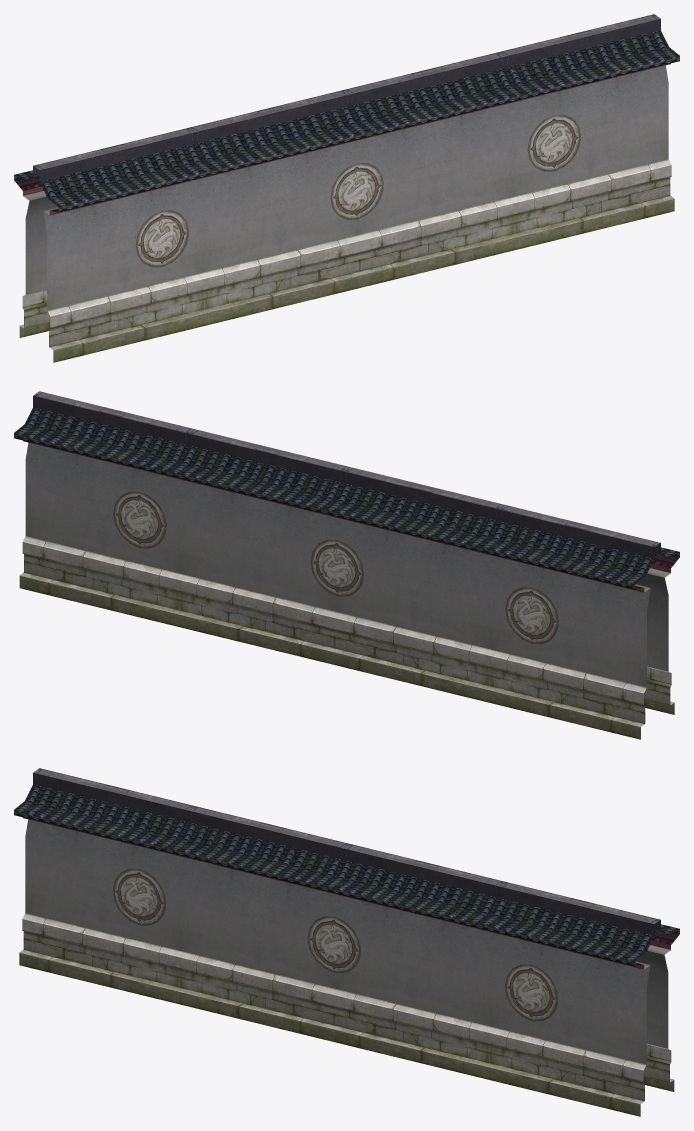
File: QYS_Wall_A_01_02.FBX
The picture shows the model from 3 angles, top to bottom: view 1: azimuth 30°, elevation 25°; view 2: azimuth 150°, elevation 25°; view 3: azimuth 330°, elevation 25°; orthographic projection.
Parts seen in each view (by area): view 1: QYS_Wall_A_01_03, QYS_Wall_A_01_02; view 2: QYS_Wall_A_01_03, QYS_Wall_A_01_02; view 3: QYS_Wall_A_01_03, QYS_Wall_A_01_02.
Part boxes in pixels (x1,y1,x2,y2): QYS_Wall_A_01_03: (14, 14, 679, 310); QYS_Wall_A_01_02: (19, 63, 674, 362); QYS_Wall_A_01_03: (14, 391, 679, 687); QYS_Wall_A_01_02: (19, 440, 674, 739); QYS_Wall_A_01_03: (14, 768, 679, 1064); QYS_Wall_A_01_02: (19, 817, 674, 1116).
Size of the model in its own units: 2851 by 800 by 355.
